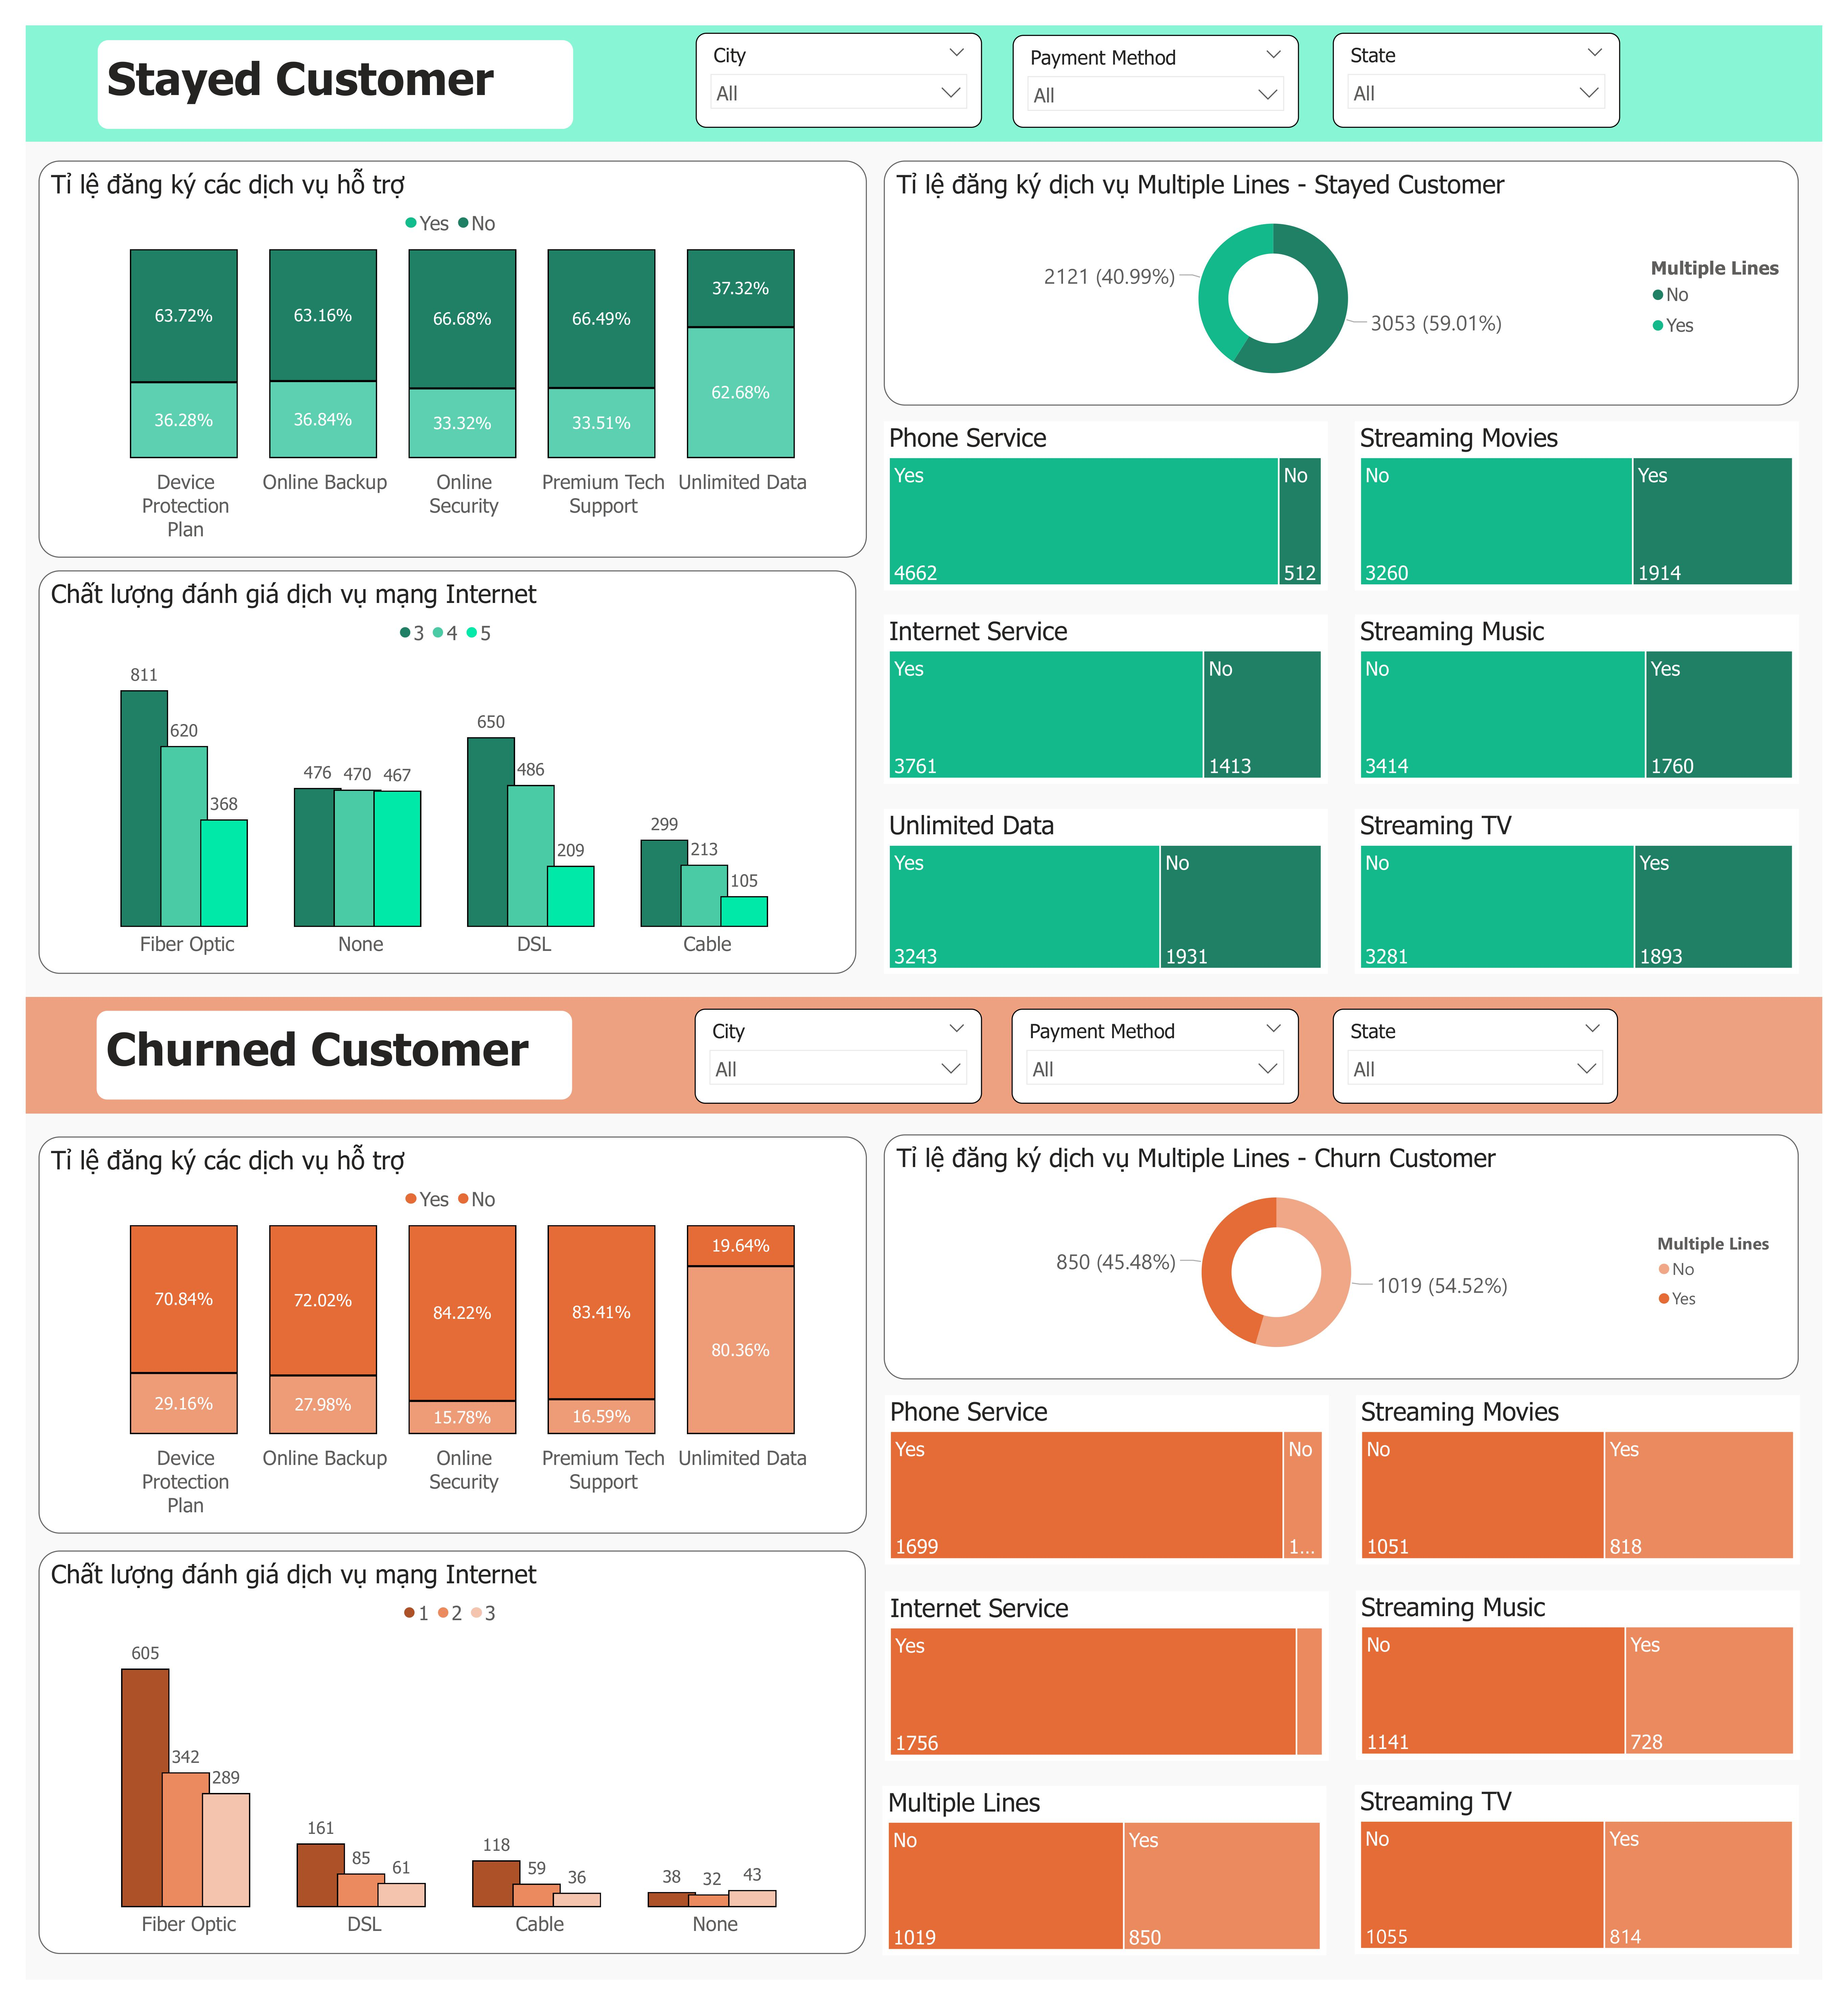

What the dashboard file says about the page in this screenshot:
{"tool":"powerbi","page":{"name":"Service","canvas":[1700,1850],"ordinal":1},"visuals":[{"type":"shape","box":[0,920.3,1700,110],"z":0},{"type":"shape","box":[0,0,1700,110],"z":1000},{"type":"slicer","fields":{"Values":["Location.City"]},"box":[633.7,7.2,271.7,90],"z":2000},{"type":"slicer","fields":{"Values":["Services.Payment Method"]},"box":[933.7,8.8,271.7,88.3],"z":3000},{"type":"slicer","fields":{"Values":["Location.State"]},"box":[1237.1,7.2,271.7,90],"z":4000},{"type":"textbox","box":[68,14,450,84],"z":5000},{"type":"slicer","fields":{"Values":["Location.City"]},"box":[633.3,931.1,272,90],"z":6000},{"type":"slicer","fields":{"Values":["Services.Payment Method"]},"box":[933.3,931.1,272,90],"z":7000},{"type":"slicer","fields":{"Values":["Location.State"]},"box":[1237.3,931.1,270,90],"z":8000},{"type":"textbox","box":[66.7,933.3,450,83.3],"z":9000},{"type":"clusteredColumnChart","title":"Chất lượng đánh giá dịch vụ mạng Internet","fields":{"Category":["Services.Internet Type"],"Y":["CountNonNull(Services.CustomerID)"],"Series":["Status.Satisfaction Score"]},"box":[11.7,1444.3,783.3,381.7],"z":10000},{"type":"treemap","title":"Streaming Movies","fields":{"Values":["Measure Table.Total Customers"],"Group":["Services.Streaming Movies"]},"box":[1259.3,1297.3,420,160],"z":11000},{"type":"treemap","title":"Multiple Lines","fields":{"Values":["Measure Table.Total Customers"],"Group":["Services.Multiple Lines"]},"box":[811.3,1667.1,420,160],"z":12000},{"type":"treemap","title":"Phone Service ","fields":{"Values":["Measure Table.Total Customers"],"Group":["Services.Phone Service"]},"box":[812.7,1296.9,420,160],"z":13000},{"type":"treemap","title":"Internet Service","fields":{"Values":["Measure Table.Total Customers"],"Group":["Services.Internet Service"]},"box":[812.7,1482.9,420,160],"z":14000},{"type":"treemap","title":"Streaming Music","fields":{"Values":["Measure Table.Total Customers"],"Group":["Services.Streaming Music"]},"box":[1259.3,1482.3,420,160],"z":15000},{"type":"treemap","title":"Streaming TV","fields":{"Values":["Measure Table.Total Customers"],"Group":["Services.Streaming TV"]},"box":[1258,1666.1,420,160],"z":16000},{"type":"columnChart","title":"Tỉ lệ đăng ký các dịch vụ hỗ trợ","fields":{"Y":["Measure Table.Percent Value"],"Category":["Streaming Services.Service"],"Series":["Legend.Label"]},"box":[12,1052,784,376],"z":17000},{"type":"donutChart","title":"Tỉ lệ đăng ký dịch vụ Multiple Lines - Churn Customer","fields":{"Category":["Services.Multiple Lines"],"Y":["Status.Churn Customer"]},"box":[811.7,1050.3,866.7,231.7],"z":18000},{"type":"treemap","title":"Streaming Movies","fields":{"Values":["Measure Table.Total Customers"],"Group":["Services.Streaming Movies"]},"box":[1258.3,375,420,160],"z":19000},{"type":"treemap","title":"Unlimited Data","fields":{"Values":["Measure Table.Total Customers"],"Group":["Services.Unlimited Data"]},"box":[812,742,420,156],"z":20000},{"type":"treemap","title":"Phone Service","fields":{"Values":["Measure Table.Total Customers"],"Group":["Services.Phone Service"]},"box":[811.7,375,420,160],"z":21000},{"type":"treemap","title":"Internet Service","fields":{"Values":["Measure Table.Total Customers"],"Group":["Services.Internet Service"]},"box":[811.7,558,420,160],"z":22000},{"type":"treemap","title":"Streaming Music","fields":{"Values":["Measure Table.Total Customers"],"Group":["Services.Streaming Music"]},"box":[1258.3,558,420,160],"z":23000},{"type":"treemap","title":"Streaming TV","fields":{"Values":["Measure Table.Total Customers"],"Group":["Services.Streaming TV"]},"box":[1258,742,420,156],"z":24000},{"type":"clusteredColumnChart","title":"Chất lượng đánh giá dịch vụ mạng Internet","fields":{"Category":["Services.Internet Type"],"Y":["Status.Stayed Customer"],"Series":["Status.Satisfaction Score"]},"box":[12,516,774,382],"z":25000},{"type":"columnChart","title":"Tỉ lệ đăng ký các dịch vụ hỗ trợ","fields":{"Y":["Measure Table.Percent Value"],"Category":["Streaming Services.Service"],"Series":["Legend.Label"]},"box":[12,128,784,376],"z":26000},{"type":"donutChart","title":"Tỉ lệ đăng ký dịch vụ Multiple Lines - Stayed Customer","fields":{"Category":["Services.Multiple Lines"],"Y":["Status.Stayed Customer"]},"box":[811.7,128.3,866.7,231.7],"z":27000}]}

Visuals, with their boxes in screenshot pixels (x1, y1, x2, y2), scaled from the page's 1700x1850 canvas onto the 1848x2005 screenshot:
shape: <bbox>0, 997, 1848, 1117</bbox>
shape: <bbox>0, 0, 1848, 119</bbox>
slicer - Location.City: <bbox>689, 8, 984, 106</bbox>
slicer - Services.Payment Method: <bbox>1015, 9, 1310, 105</bbox>
slicer - Location.State: <bbox>1345, 8, 1640, 106</bbox>
textbox: <bbox>74, 15, 563, 106</bbox>
slicer - Location.City: <bbox>689, 1009, 984, 1106</bbox>
slicer - Services.Payment Method: <bbox>1015, 1009, 1310, 1106</bbox>
slicer - Location.State: <bbox>1345, 1009, 1639, 1106</bbox>
textbox: <bbox>72, 1011, 562, 1102</bbox>
"Chất lượng đánh giá dịch vụ mạng Internet" clusteredColumnChart: <bbox>13, 1565, 864, 1979</bbox>
"Streaming Movies" treemap: <bbox>1369, 1406, 1825, 1579</bbox>
"Multiple Lines" treemap: <bbox>882, 1807, 1339, 1980</bbox>
"Phone Service " treemap: <bbox>883, 1405, 1340, 1579</bbox>
"Internet Service" treemap: <bbox>883, 1607, 1340, 1780</bbox>
"Streaming Music" treemap: <bbox>1369, 1607, 1825, 1780</bbox>
"Streaming TV" treemap: <bbox>1367, 1806, 1824, 1979</bbox>
"Tỉ lệ đăng ký các dịch vụ hỗ trợ" columnChart: <bbox>13, 1140, 865, 1548</bbox>
"Tỉ lệ đăng ký dịch vụ Multiple Lines - Churn Customer" donutChart: <bbox>882, 1138, 1825, 1390</bbox>
"Streaming Movies" treemap: <bbox>1368, 406, 1824, 580</bbox>
"Unlimited Data" treemap: <bbox>883, 804, 1339, 973</bbox>
"Phone Service" treemap: <bbox>882, 406, 1339, 580</bbox>
"Internet Service" treemap: <bbox>882, 605, 1339, 778</bbox>
"Streaming Music" treemap: <bbox>1368, 605, 1824, 778</bbox>
"Streaming TV" treemap: <bbox>1367, 804, 1824, 973</bbox>
"Chất lượng đánh giá dịch vụ mạng Internet" clusteredColumnChart: <bbox>13, 559, 854, 973</bbox>
"Tỉ lệ đăng ký các dịch vụ hỗ trợ" columnChart: <bbox>13, 139, 865, 546</bbox>
"Tỉ lệ đăng ký dịch vụ Multiple Lines - Stayed Customer" donutChart: <bbox>882, 139, 1825, 390</bbox>
